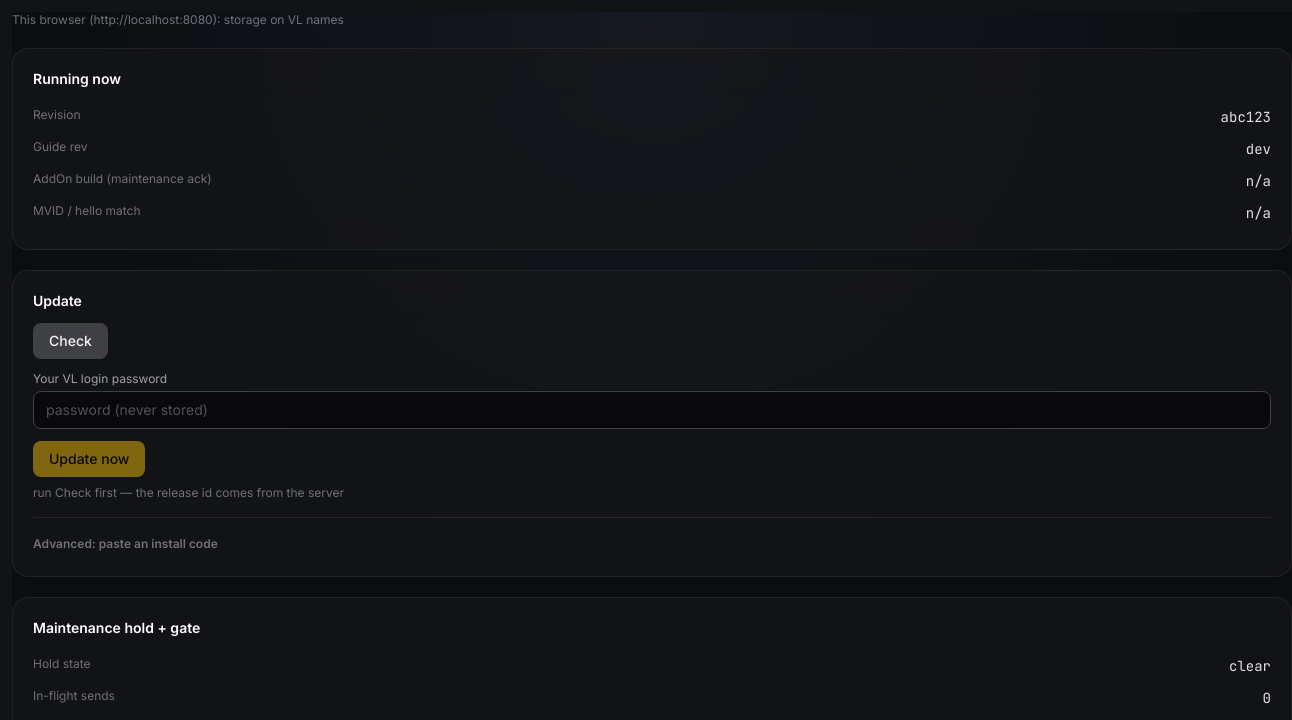
Test: UpdatesPage › labels an up_to_date check "Up to date" (Go fixture)
The image size is (1292, 720).
Expected: the button "Update now" is shown, [33, 441, 146, 477]
Click the button with test id "check-button". click: (70, 341)
box: [33, 323, 108, 359]
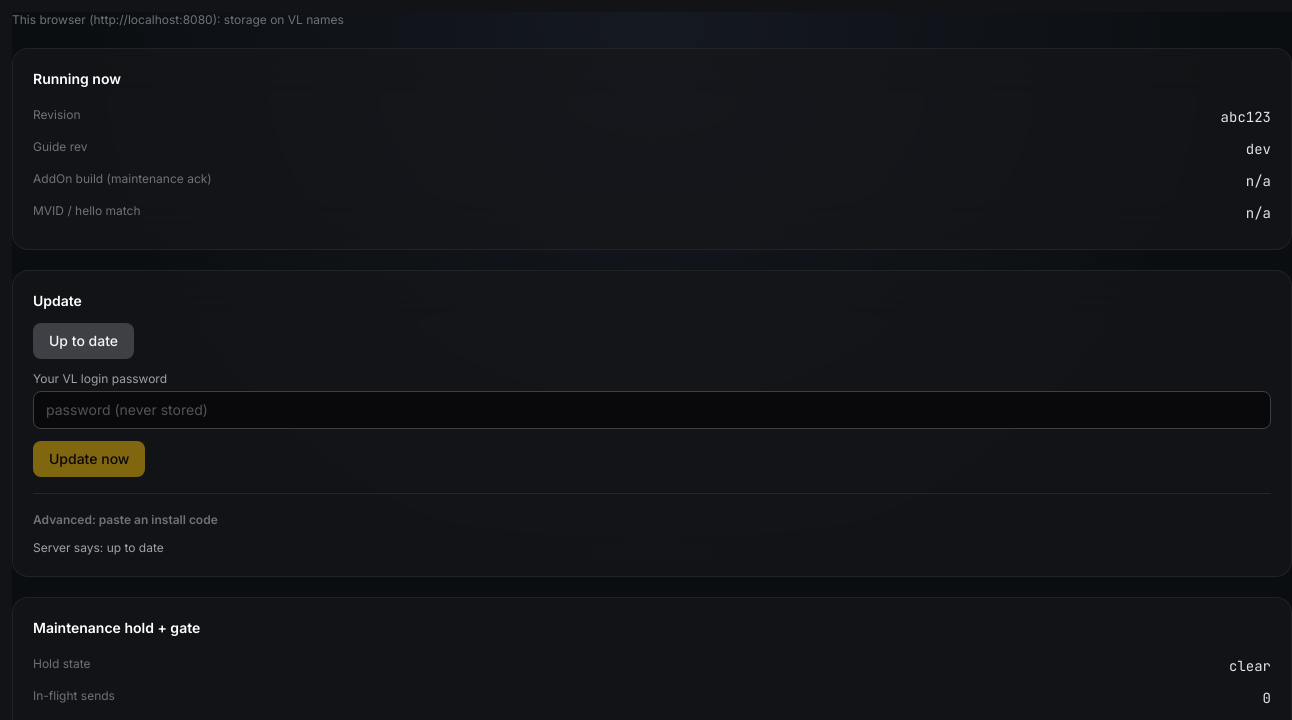
Expected: the button with test id "check-button" reads "Up to date", [33, 323, 134, 359]
